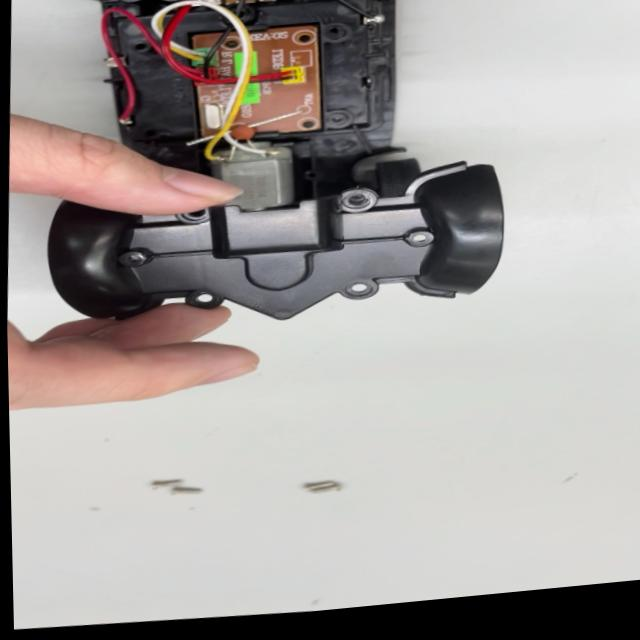motor_cover: (32, 156, 505, 339)
